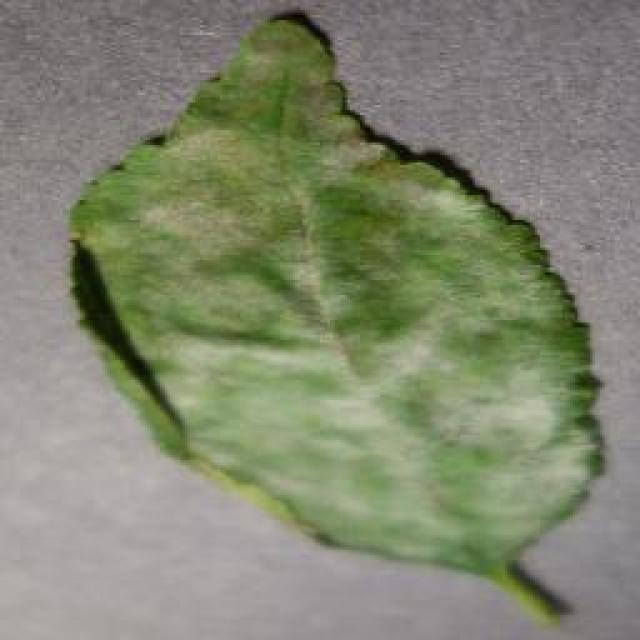Cherry___Powdery_mildew: (89, 56, 536, 556)
